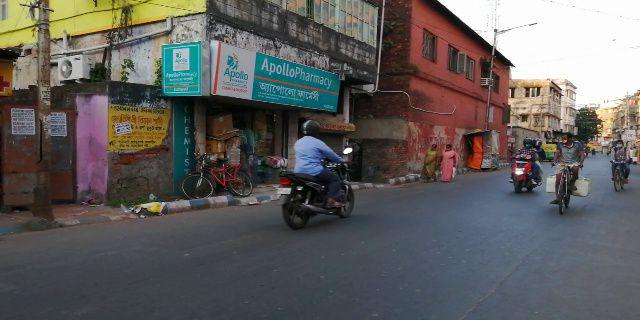Cycle: (547, 127, 592, 224), (176, 147, 256, 199), (606, 137, 631, 196)
Motorbike: (274, 120, 358, 231), (504, 133, 545, 199)
